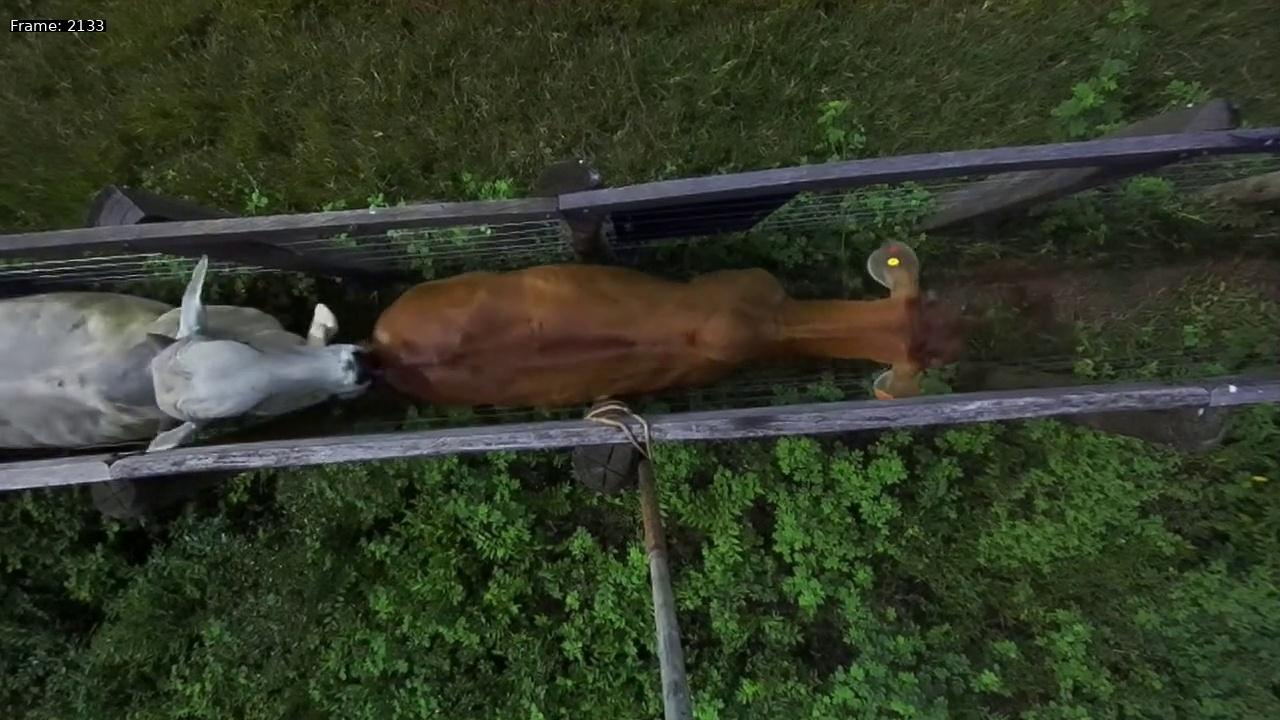cattle: (350, 205, 989, 434)
